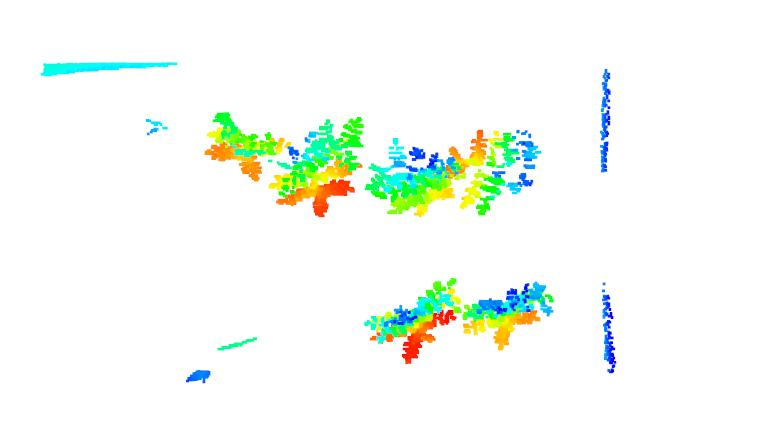chickpea: (279, 118, 369, 215), (370, 276, 460, 366), (455, 124, 542, 214), (367, 141, 459, 220), (460, 283, 558, 350), (202, 107, 282, 181)
